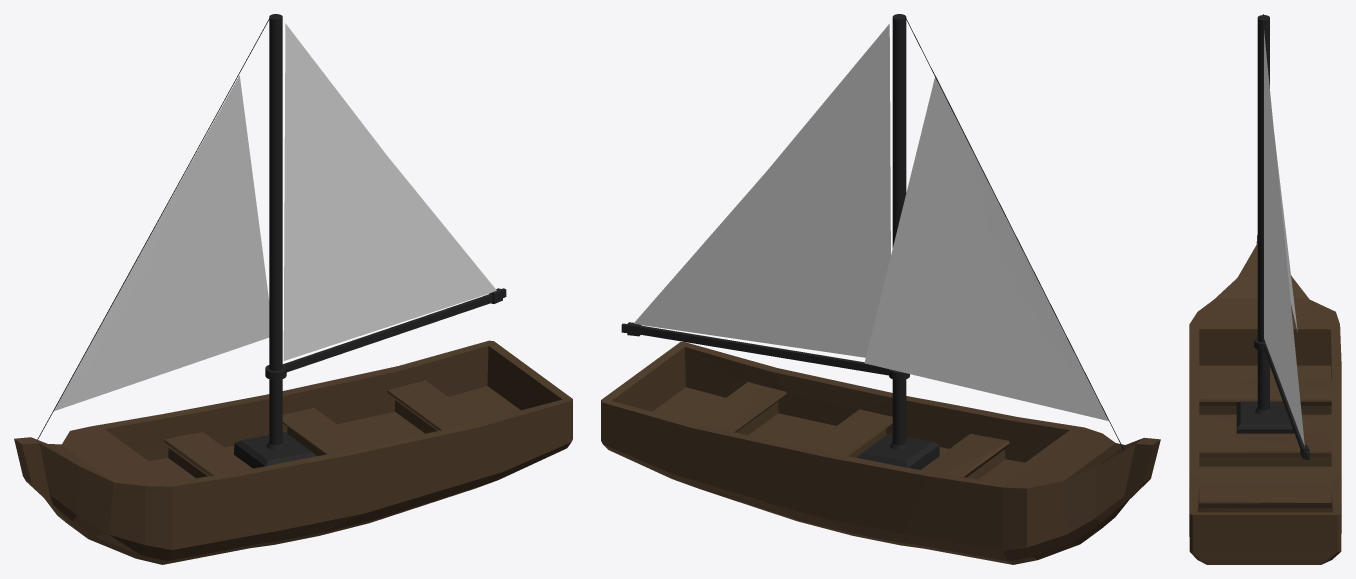
File: wip_boat_optimized_with_2sail10.fbx
The picture shows the model from 3 angles, left to right: view 1: azimuth 30°, elevation 25°; view 2: azimuth 150°, elevation 25°; view 3: azimuth 270°, elevation 25°; orthographic projection. The views are drawn at different scales.
Parts seen in each view (by area): view 1: Boat, Plane, Plane.001, Mast; view 2: Boat, Plane, Plane.001, Mast; view 3: Boat, Plane, Mast, Plane.001.
Part boxes in pixels (x1,y1,x2,y2): Boat: (14, 340, 572, 564); Plane: (283, 23, 496, 360); Plane.001: (54, 75, 269, 410); Mast: (265, 14, 506, 450); Boat: (601, 342, 1160, 564); Plane: (634, 24, 890, 357); Plane.001: (864, 75, 1108, 420); Mast: (621, 14, 909, 450); Boat: (1189, 234, 1341, 564); Plane: (1264, 30, 1304, 446); Mast: (1254, 15, 1309, 459); Plane.001: (1274, 132, 1297, 331).
Bounding box in the file's own units: 1741 × 1614 × 485.
